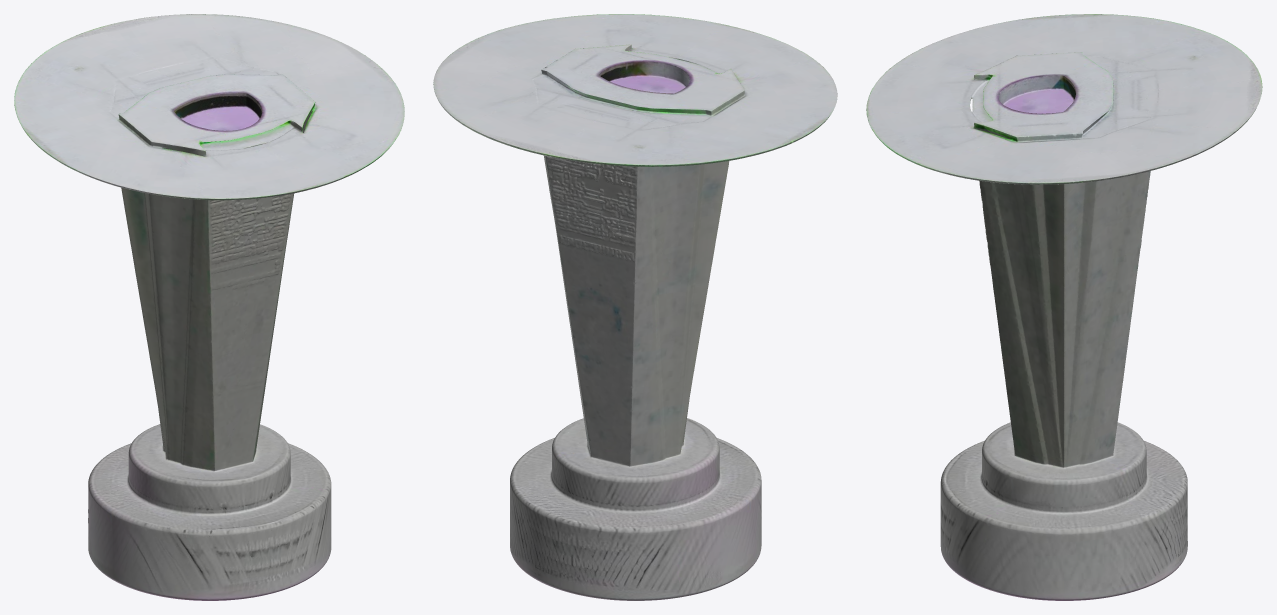
Rendered from ecosseSuper.glb.
3 renders of one model, left to right at view 1: azimuth 30°, elevation 25°; view 2: azimuth 150°, elevation 25°; view 3: azimuth 270°, elevation 25°, orthographic. The views are drawn at different scales.
Parts seen in each view (by area): view 1: mesh_node; view 2: mesh_node; view 3: mesh_node.
Part boxes in pixels (x1,y1,x2,y2): mesh_node: (14,14,404,600); mesh_node: (433,14,837,600); mesh_node: (866,14,1262,600).
Bounding box in the file's own units: 1.47 × 1.9 × 1.47.
1 material, 1 textured.
